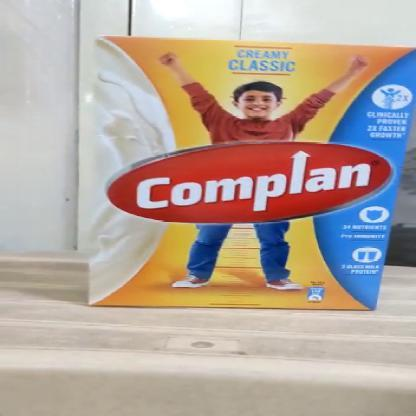Complan Classic Creme: (81, 35, 402, 314)
